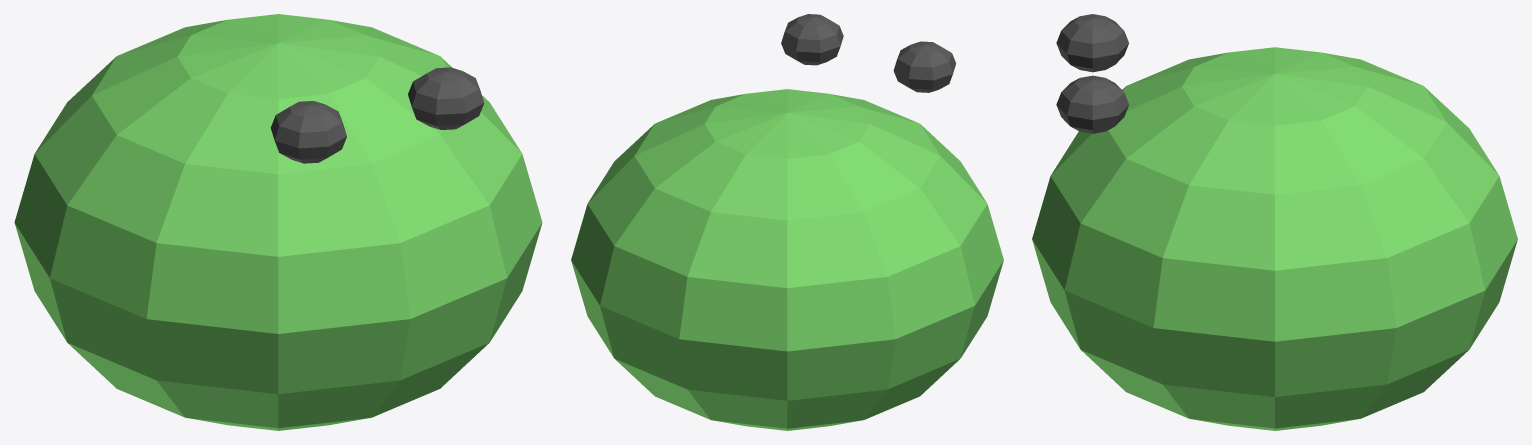
File: slime_big.glb
3 renders of one model, left to right at view 1: azimuth 30°, elevation 25°; view 2: azimuth 150°, elevation 25°; view 3: azimuth 270°, elevation 25°, orthographic. The views are drawn at different scales.
Parts seen in each view (by area): view 1: SlimeBigBody, Eye_R, Eye_L; view 2: SlimeBigBody, Eye_L, Eye_R; view 3: SlimeBigBody, Eye_L, Eye_R.
Part boxes in pixels (bbox=[...]): SlimeBigBody: bbox=[14, 14, 542, 430]; Eye_R: bbox=[408, 67, 484, 129]; Eye_L: bbox=[270, 101, 346, 163]; SlimeBigBody: bbox=[571, 89, 1003, 430]; Eye_L: bbox=[893, 41, 956, 92]; Eye_R: bbox=[781, 14, 843, 65]; SlimeBigBody: bbox=[1032, 47, 1517, 430]; Eye_L: bbox=[1056, 14, 1128, 72]; Eye_R: bbox=[1056, 75, 1128, 133].
Bounding box in the file's own units: 0.8 × 0.645 × 0.8.
